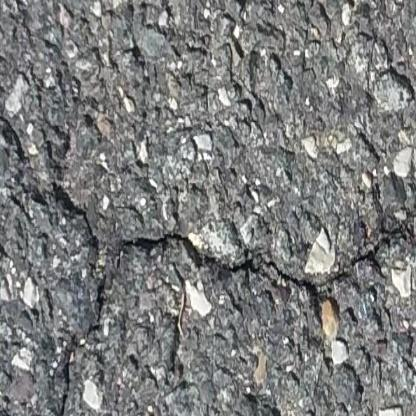Cracks: (0, 92, 115, 416), (125, 206, 416, 309)
